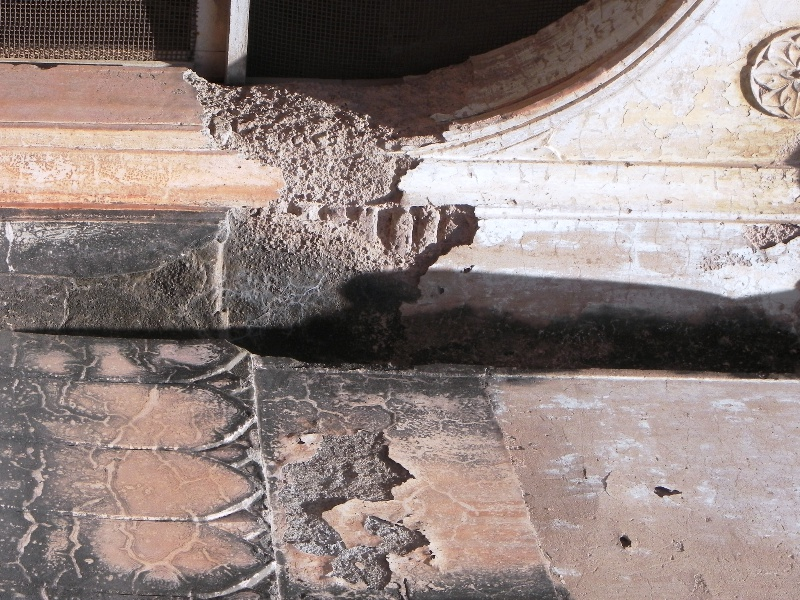Exposed Bricks: (283, 199, 483, 253)
Spalling: (177, 64, 430, 198), (276, 425, 425, 587)
